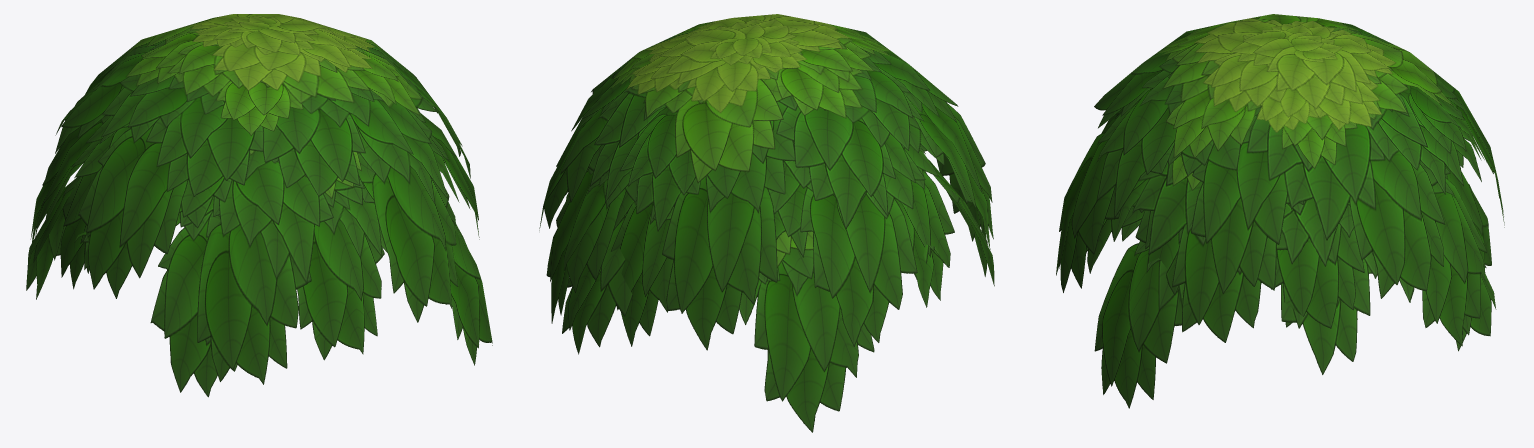
File: bush.fbx
The picture shows the model from 3 angles, left to right: view 1: azimuth 30°, elevation 25°; view 2: azimuth 150°, elevation 25°; view 3: azimuth 270°, elevation 25°; orthographic projection.
Parts seen in each view (by area): view 1: bush; view 2: bush; view 3: bush.
Boxes of the visible parts, x1,y1,x2,y2 form: bush: (26,14,492,397); bush: (539,14,994,432); bush: (1056,14,1504,408).
Bounding box in the file's own units: 151 × 103 × 150.
